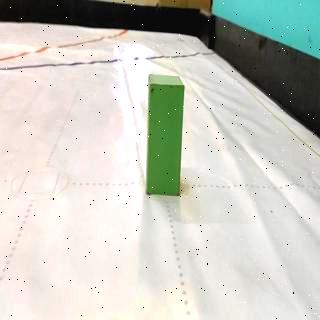greenbox: (146, 72, 186, 196)
